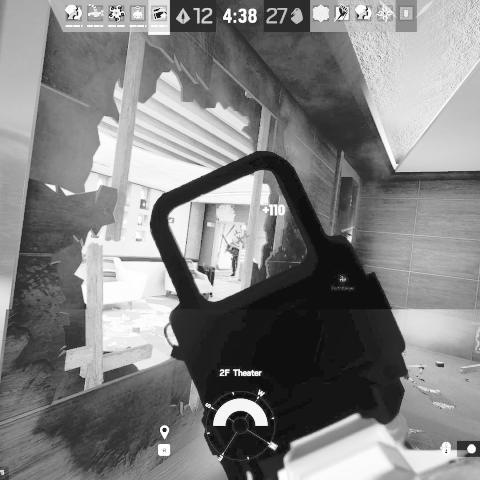Character: (224, 239, 240, 279)
Friend_label: (331, 274, 354, 291)
Head: (227, 244, 233, 251)
